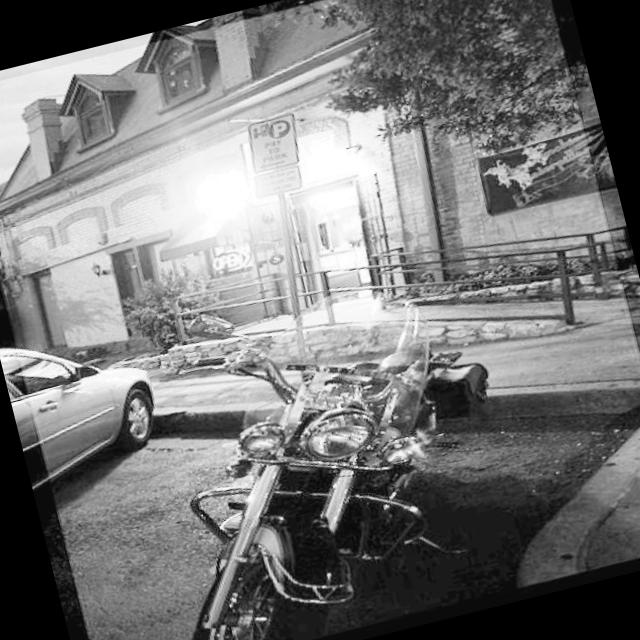Car: (0, 295, 183, 513)
Motorcycle: (109, 241, 548, 640)
